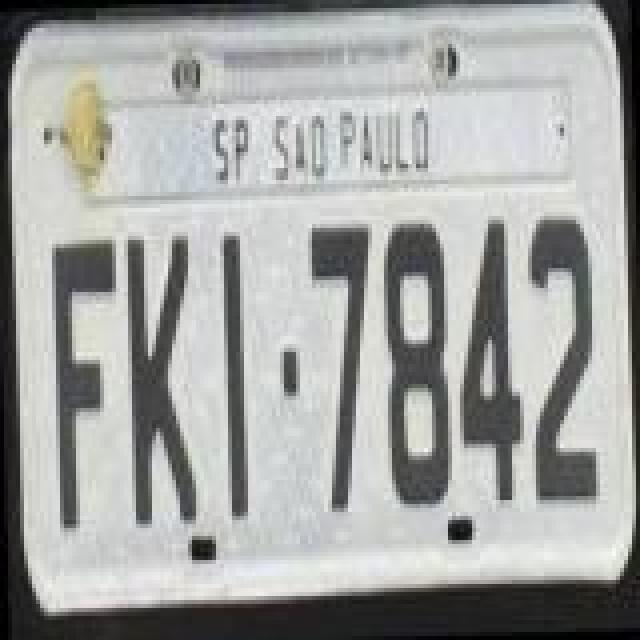1: (220, 228, 252, 524)
2: (526, 212, 602, 508)
4: (450, 212, 526, 508)
7: (306, 220, 382, 516)
8: (378, 218, 454, 510)
F: (50, 232, 126, 536)
K: (122, 232, 198, 536)
